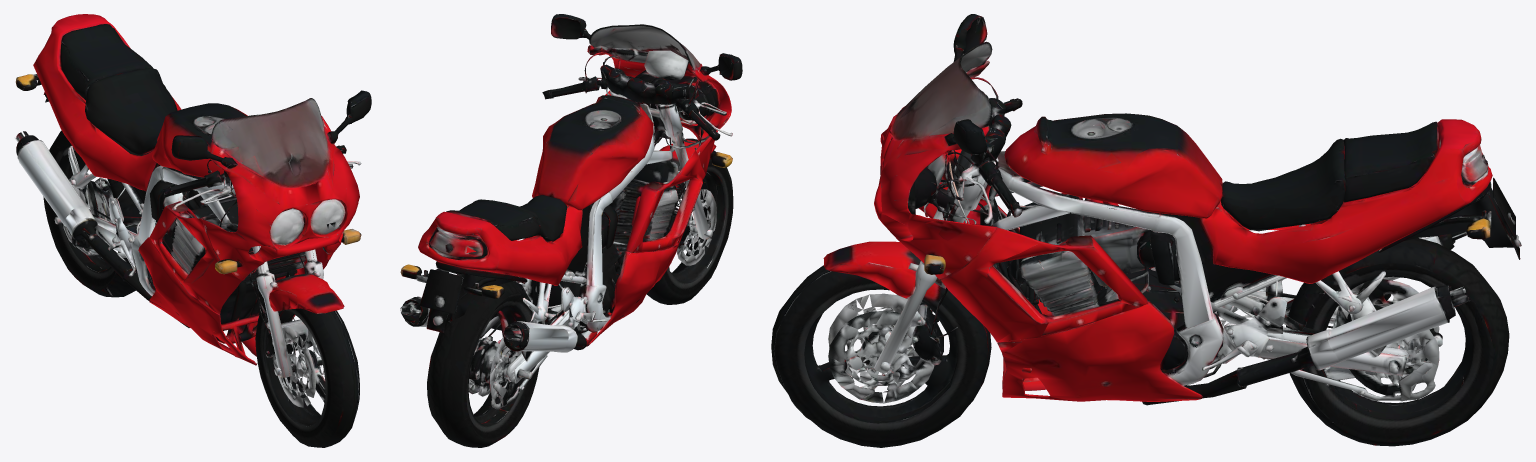
The model's file is sportbike.glb.
3 renders of one model, left to right at view 1: azimuth 30°, elevation 25°; view 2: azimuth 150°, elevation 25°; view 3: azimuth 270°, elevation 25°, orthographic. The views are drawn at different scales.
Visible parts, largest first — view 1: body, wheel_front, fork, wheel_rear; view 2: body, wheel_rear, fork, wheel_front; view 3: body, wheel_front, wheel_rear, fork.
Part boxes in pixels (x1,y1,x2,y2): body: (14, 14, 371, 365); wheel_front: (255, 302, 359, 447); fork: (163, 145, 361, 377); wheel_rear: (43, 130, 143, 297); body: (400, 14, 742, 409); wheel_rear: (427, 281, 539, 447); fork: (542, 52, 732, 249); wheel_front: (646, 150, 733, 304); body: (874, 14, 1521, 405); wheel_front: (771, 265, 991, 447); wheel_rear: (1286, 238, 1509, 446); fork: (823, 77, 1022, 373).
Bounding box in the file's own units: 0.7954 × 1.19 × 2.1.
1 material, 1 textured.
